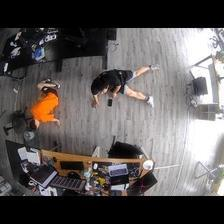fall: (86, 62, 163, 108), (28, 78, 62, 128)
